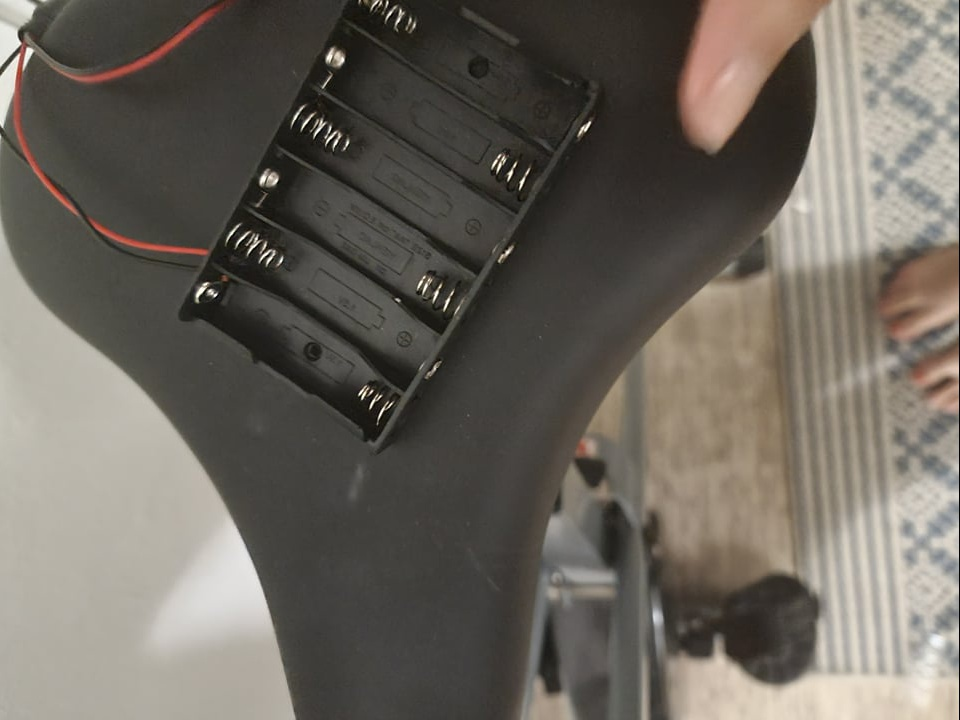BATTERY BOX: (172, 1, 628, 449)
